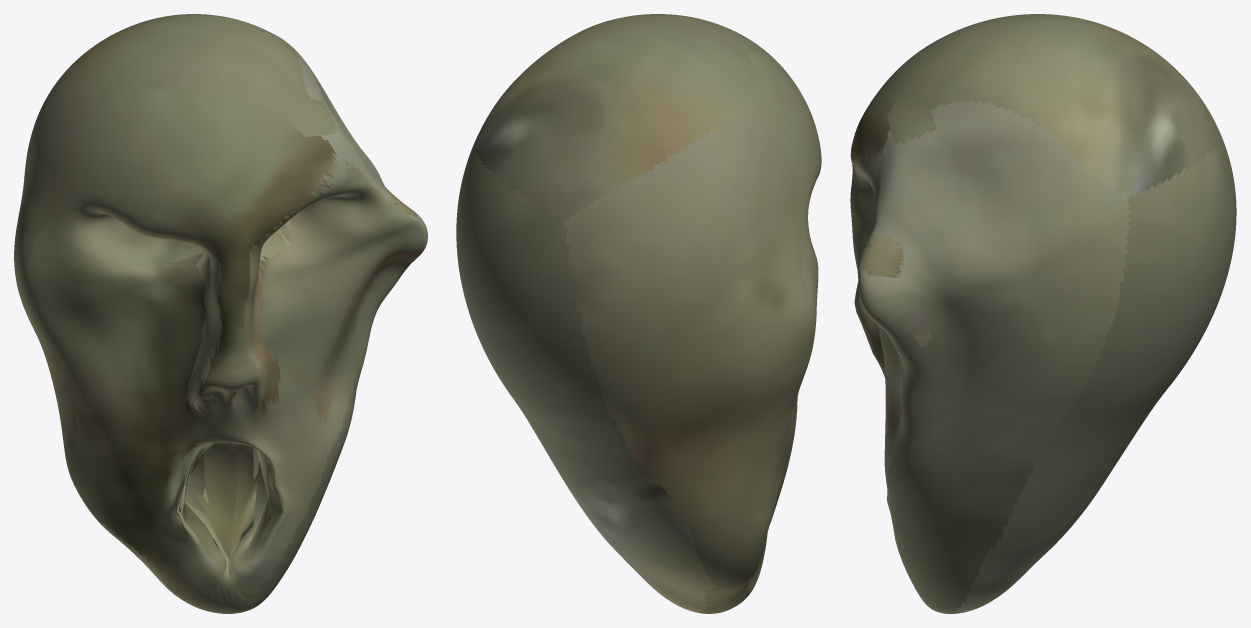
The picture shows the model from 3 angles, left to right: view 1: azimuth 30°, elevation 25°; view 2: azimuth 150°, elevation 25°; view 3: azimuth 270°, elevation 25°; orthographic projection. The views are drawn at different scales.
Visible parts, largest first — view 1: Spheree; view 2: Spheree; view 3: Spheree.
Part boxes in pixels (x1,y1,x2,y2): Spheree: (14, 14, 427, 613); Spheree: (456, 14, 821, 613); Spheree: (850, 14, 1236, 613).
Size of the model in its own units: 869 by 1466 by 879.
Materials: 1 (1 with a texture image).
